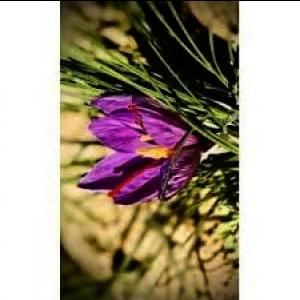Saffron: (76, 103, 226, 204)
